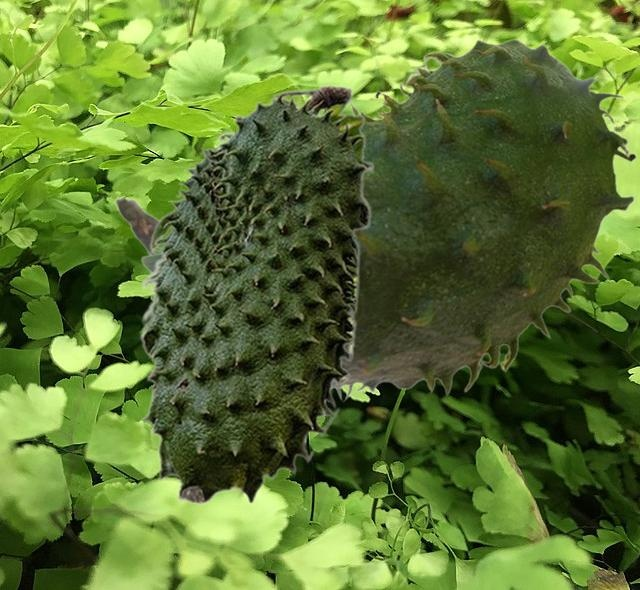guyabano: (114, 38, 636, 404), (138, 83, 373, 505)
